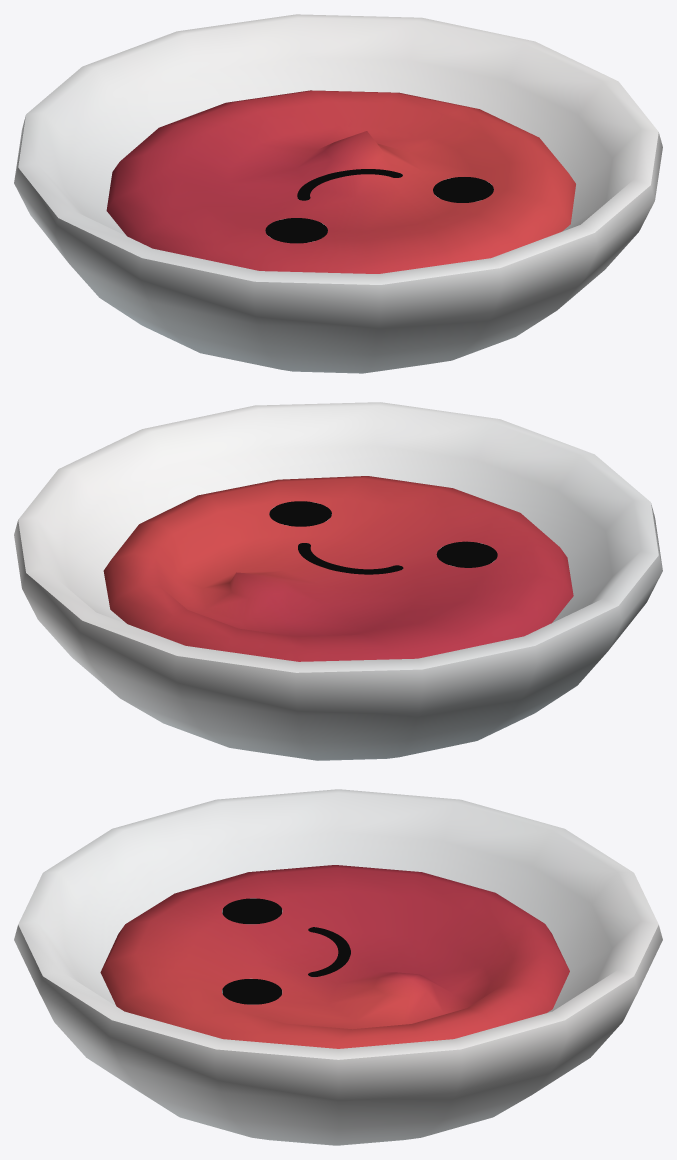
File: sauce_red_small.fbx
3 renders of one model, top to bottom at view 1: azimuth 30°, elevation 25°; view 2: azimuth 150°, elevation 25°; view 3: azimuth 270°, elevation 25°, orthographic.
Visible parts, largest first — view 1: sause_red_small; view 2: sause_red_small; view 3: sause_red_small.
Boxes of the visible parts, x1,y1,x2,y2 form: sause_red_small: (14,14,662,373); sause_red_small: (14,402,662,760); sause_red_small: (14,789,662,1145).
Bounding box in the file's own units: 20.26 × 20.26 × 5.87.
